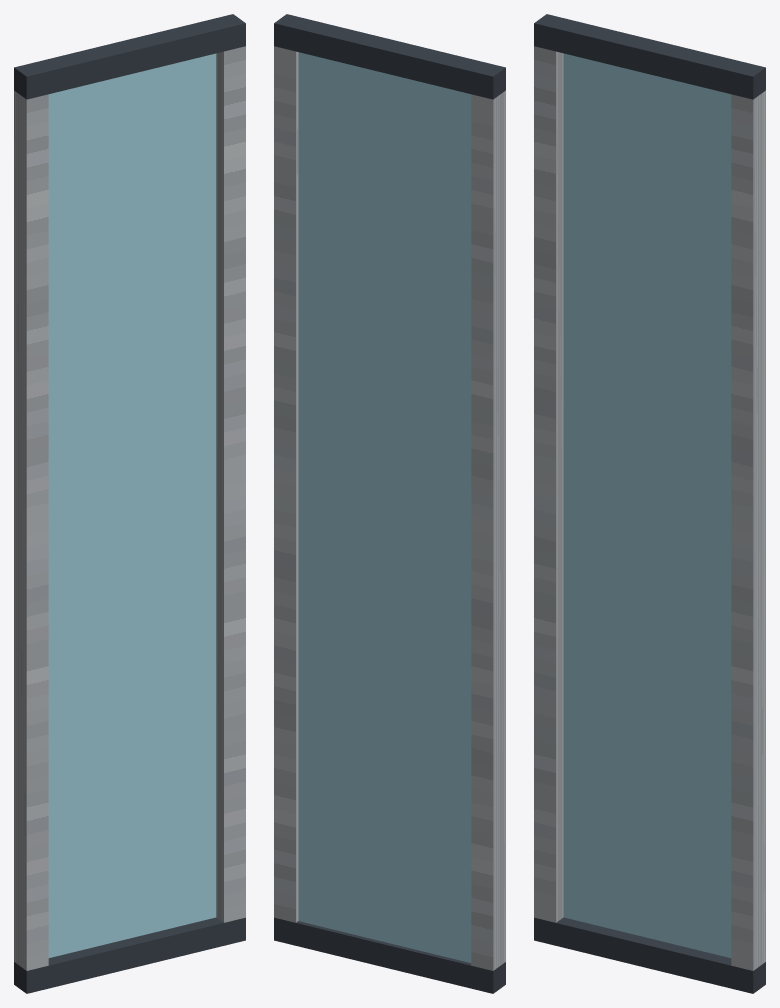
Rendered from glass-1x4.glb.
The picture shows the model from 3 angles, left to right: view 1: azimuth 30°, elevation 25°; view 2: azimuth 150°, elevation 25°; view 3: azimuth 330°, elevation 25°; orthographic projection.
Parts seen in each view (by area): view 1: Glass1x4; view 2: Glass1x4; view 3: Glass1x4.
Part boxes in pixels (x1=…): Glass1x4: x1=14, y1=14, x2=245, y2=993; Glass1x4: x1=274, y1=14, x2=505, y2=993; Glass1x4: x1=534, y1=14, x2=765, y2=993.
Bounding box in the file's own units: 1 × 4 × 0.1.
Materials: 3 (1 with a texture image).
